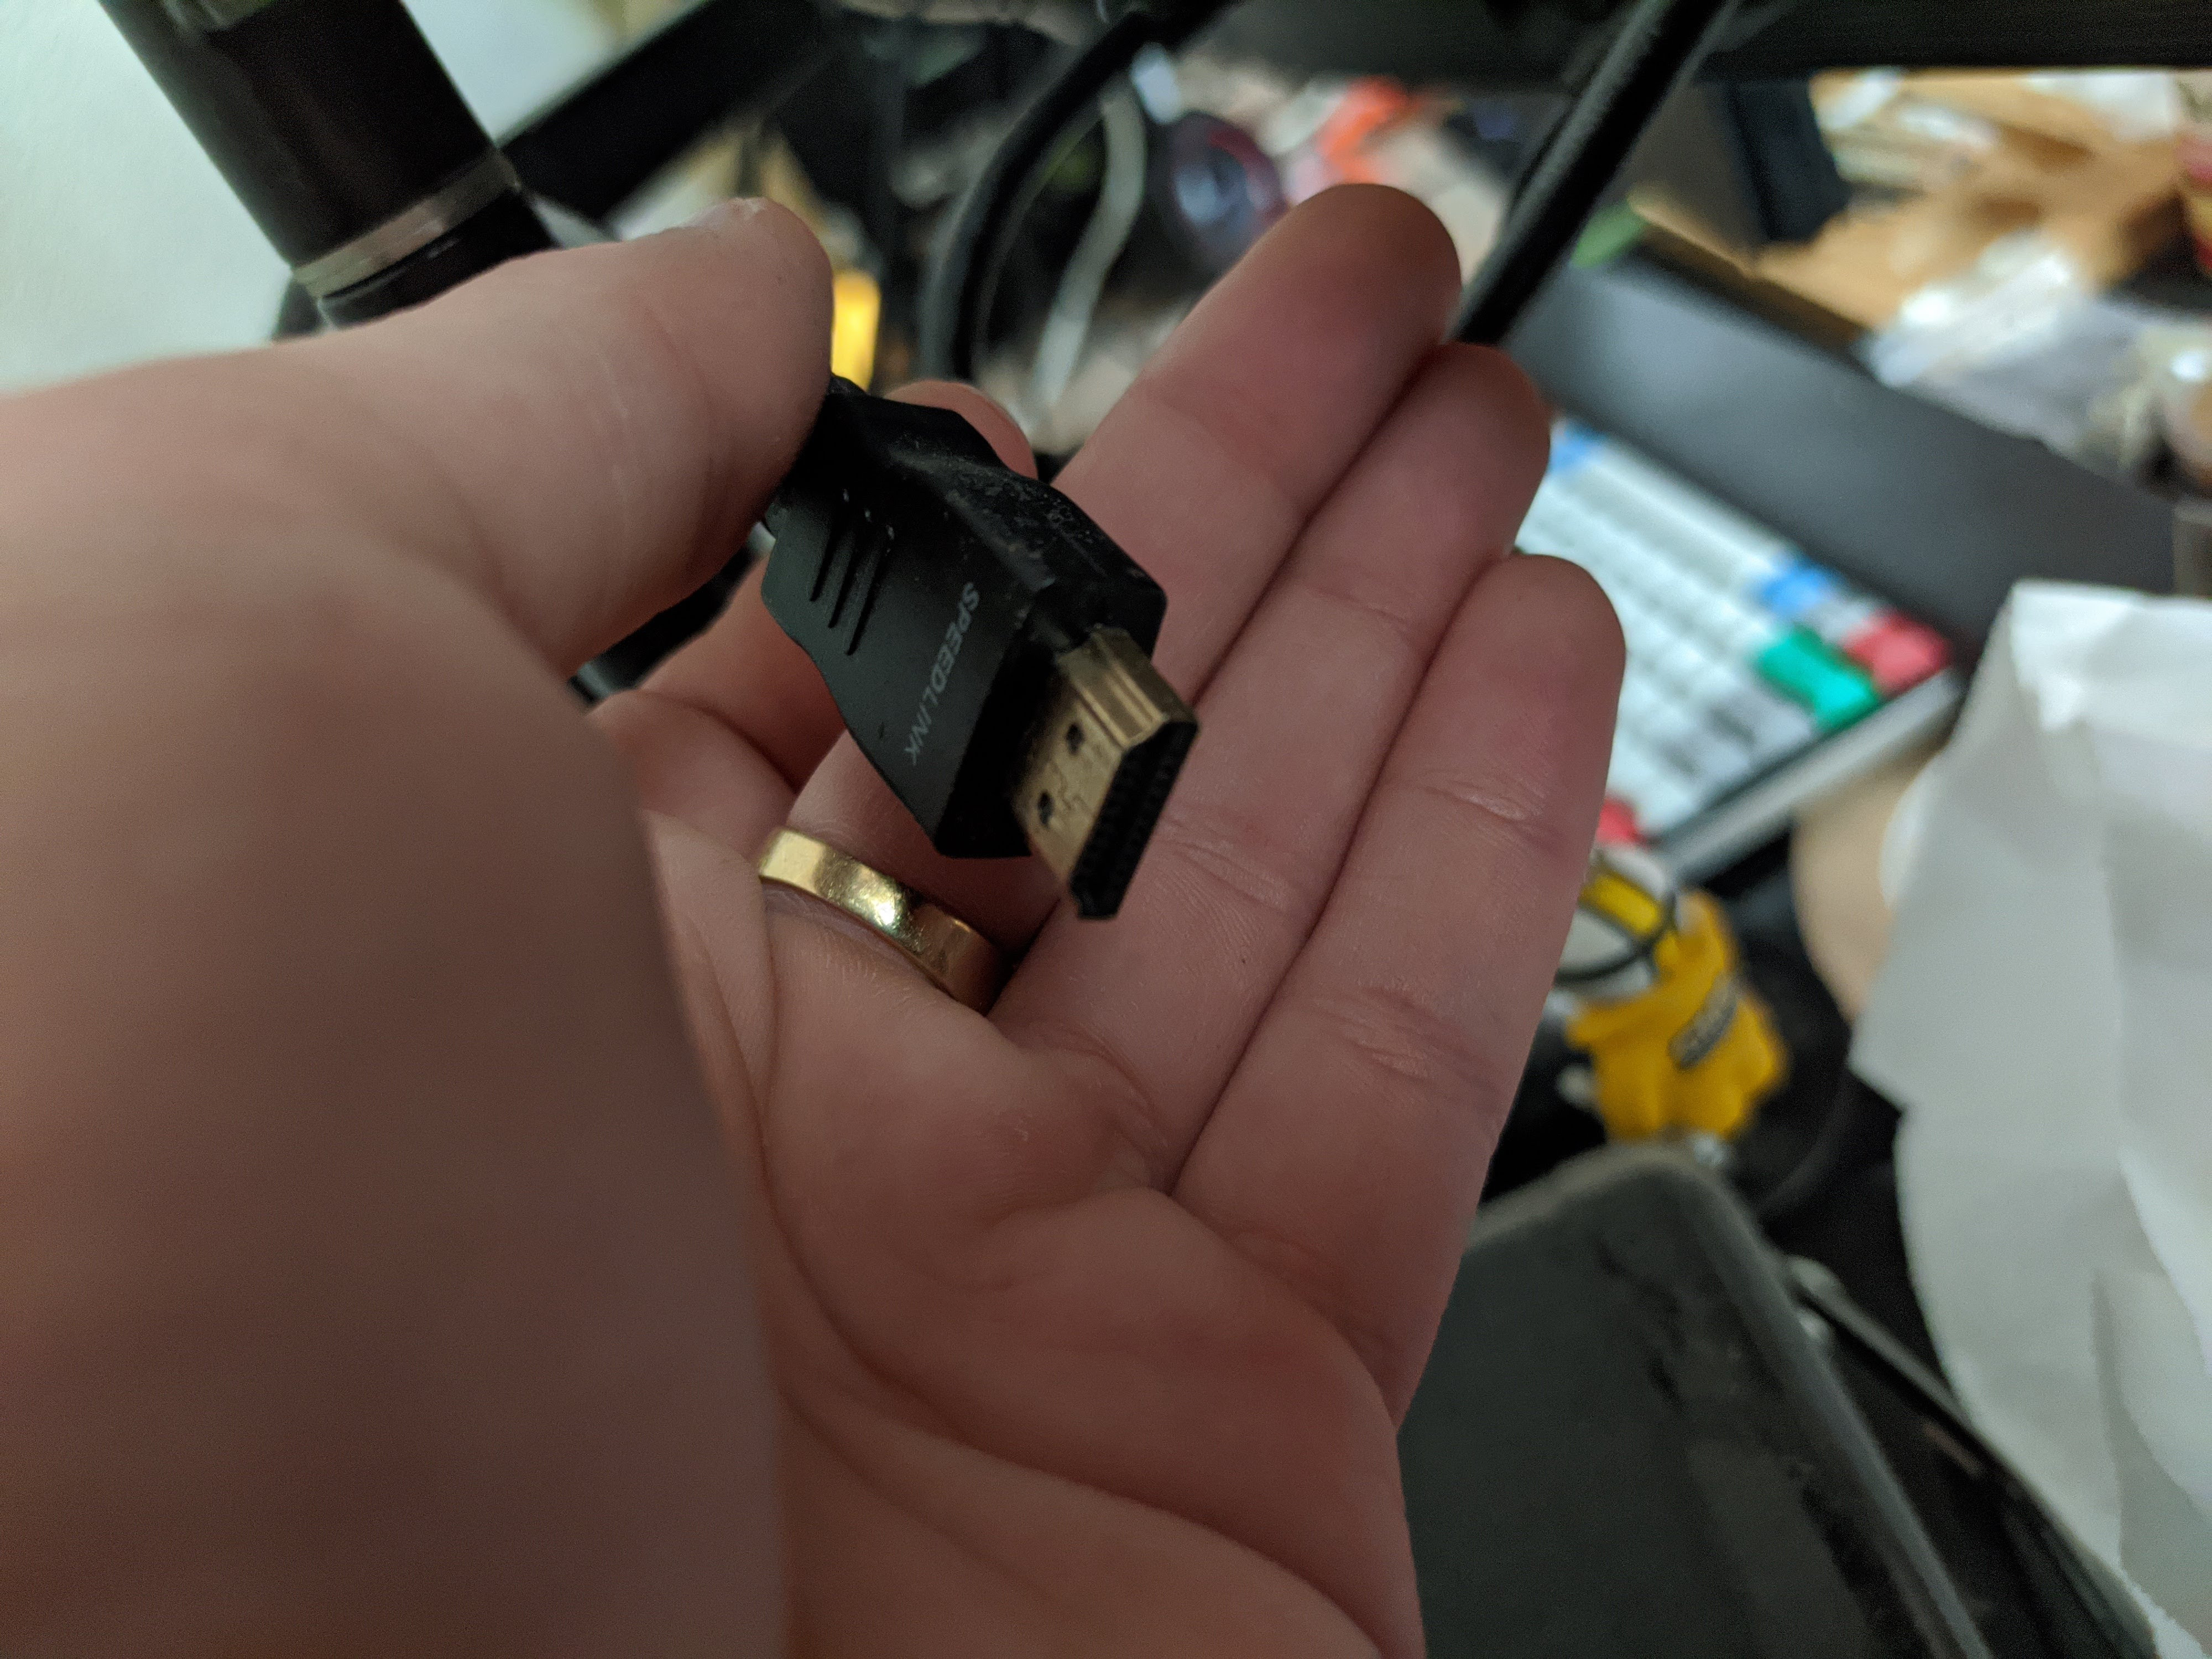hdmi_out: (1035, 627, 1198, 932)
